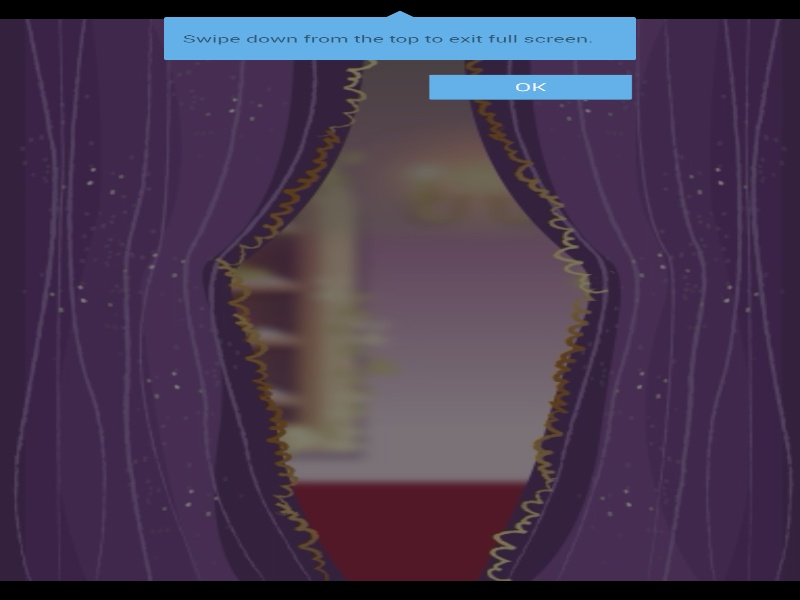Input: (0, 0, 800, 15)
